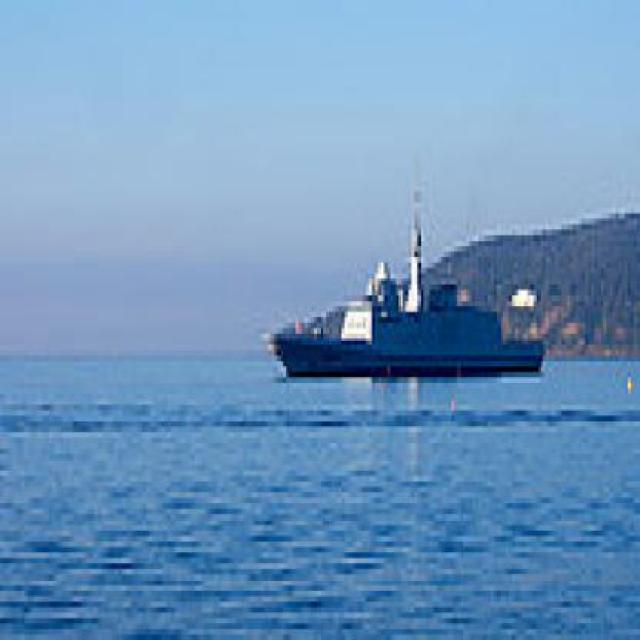warship2: (264, 144, 547, 384)
